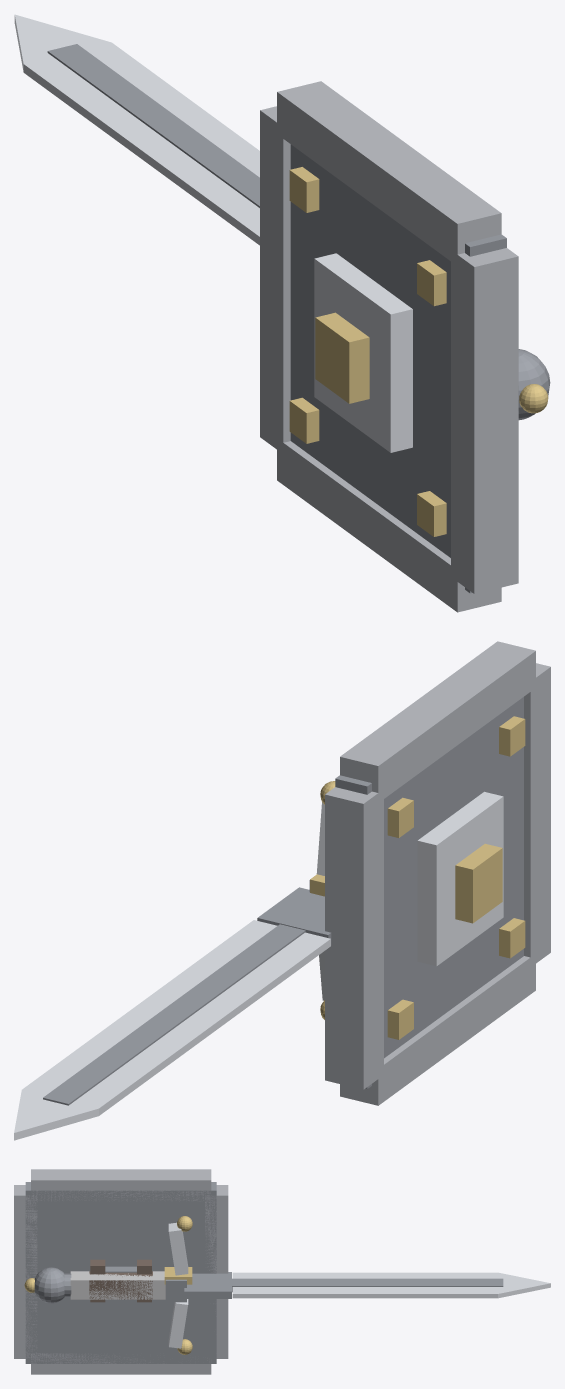
File: art_tempered_bastard_sword.fbx
The picture shows the model from 3 angles, top to bottom: view 1: azimuth 30°, elevation 25°; view 2: azimuth 150°, elevation 25°; view 3: azimuth 270°, elevation 25°; orthographic projection. The views are drawn at different scales.
Visible parts, largest first — view 1: BucklerPlate, BucklerRimBottom, BucklerRimLeft, BossDome, BucklerRimTop, BucklerRimRight, BladeEdgeBack, BladeFuller, BladeEdgeFwd, BossPoint, Stud1, Stud3 (+5 smaller); view 2: BucklerPlate, BucklerRimTop, BucklerRimLeft, BossDome, BladeEdgeBack, BucklerRimBottom, BucklerRimRight, BladeFuller, BladeEdgeFwd, BossPoint, Ricasso, TipBack (+5 smaller); view 3: BucklerPlate, BucklerRimLeft, BladeEdgeFwd, BucklerRimBottom, BucklerRimRight, BucklerRimTop, BladeFuller, Handle, BladeEdgeBack, HandleS, Ricasso, PommelBall (+8 smaller).
Boxes of the visible parts, x1,y1,x2,y2 form: BucklerPlate: [290, 144, 506, 593]; BucklerRimBottom: [451, 248, 518, 593]; BucklerRimLeft: [277, 81, 501, 265]; BossDome: [314, 253, 412, 452]; BucklerRimTop: [260, 106, 290, 453]; BucklerRimRight: [277, 439, 501, 612]; BladeEdgeBack: [23, 57, 259, 245]; BladeFuller: [47, 44, 259, 207]; BladeEdgeFwd: [84, 42, 259, 177]; BossPoint: [315, 312, 369, 403]; Stud1: [289, 167, 319, 212]; Stud3: [289, 397, 319, 443]; BucklerPlate: [335, 697, 523, 1088]; BucklerRimTop: [325, 787, 383, 1089]; BucklerRimLeft: [340, 641, 535, 802]; BossDome: [417, 791, 503, 966]; BladeEdgeBack: [73, 932, 330, 1115]; BucklerRimBottom: [524, 663, 550, 966]; BucklerRimRight: [340, 954, 535, 1105]; BladeFuller: [43, 924, 305, 1105]; BladeEdgeFwd: [22, 920, 277, 1095]; BossPoint: [455, 843, 502, 923]; Ricasso: [257, 887, 331, 945]; TipBack: [14, 1102, 98, 1140]; BucklerPlate: [25, 1182, 216, 1363]; BucklerRimLeft: [31, 1169, 211, 1201]; BladeEdgeFwd: [232, 1287, 497, 1298]; BucklerRimBottom: [14, 1185, 37, 1358]; BucklerRimRight: [31, 1353, 211, 1374]; BucklerRimTop: [205, 1185, 228, 1358]; BladeFuller: [232, 1278, 503, 1292]; Handle: [70, 1271, 165, 1299]; BladeEdgeBack: [232, 1272, 497, 1278]; HandleS: [89, 1271, 152, 1299]; Ricasso: [184, 1272, 231, 1298]; PommelBall: [34, 1267, 64, 1303].
Size of the model in its own units: 0.85 by 2.02 by 5.06.
